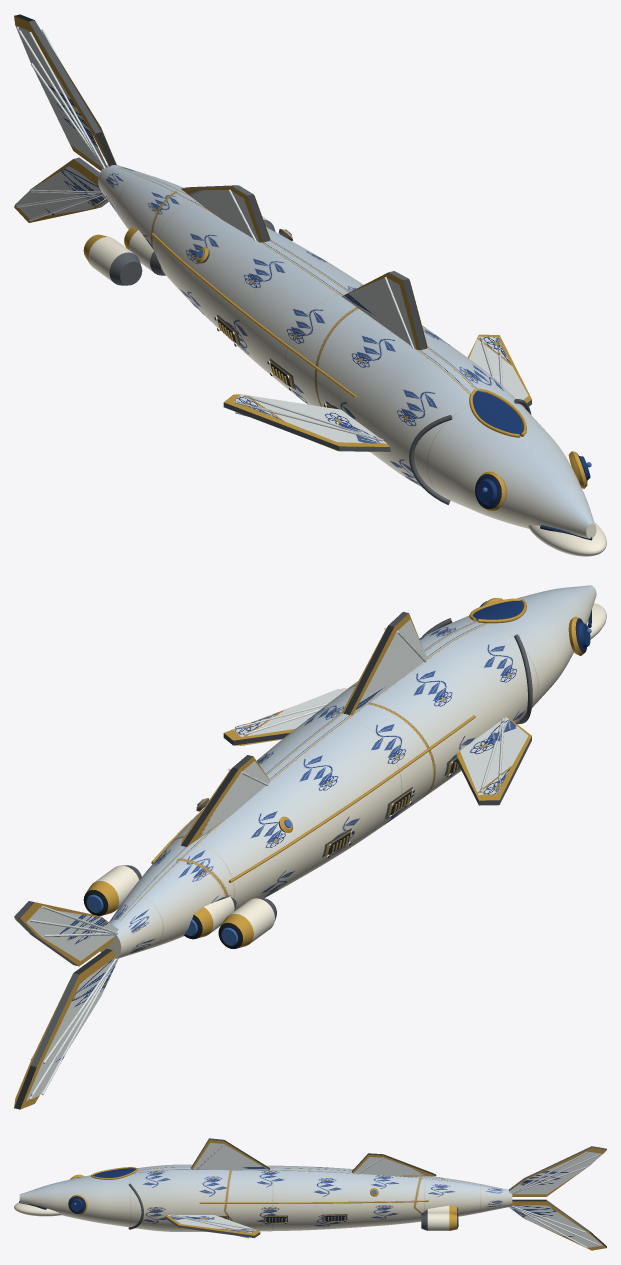
3 renders of one model, top to bottom at view 1: azimuth 30°, elevation 25°; view 2: azimuth 150°, elevation 25°; view 3: azimuth 270°, elevation 25°, orthographic. The views are drawn at different scales.
Parts seen in each view (by area): view 1: barracuda_hull; view 2: barracuda_hull; view 3: barracuda_hull.
Part boxes in pixels (x1,y1,x2,y2): barracuda_hull: (14, 14, 606, 556); barracuda_hull: (14, 585, 606, 1109); barracuda_hull: (14, 1138, 606, 1250).
Bounding box in the file's own units: 17.8 × 13.36 × 64.8.
1 material, 1 textured.
